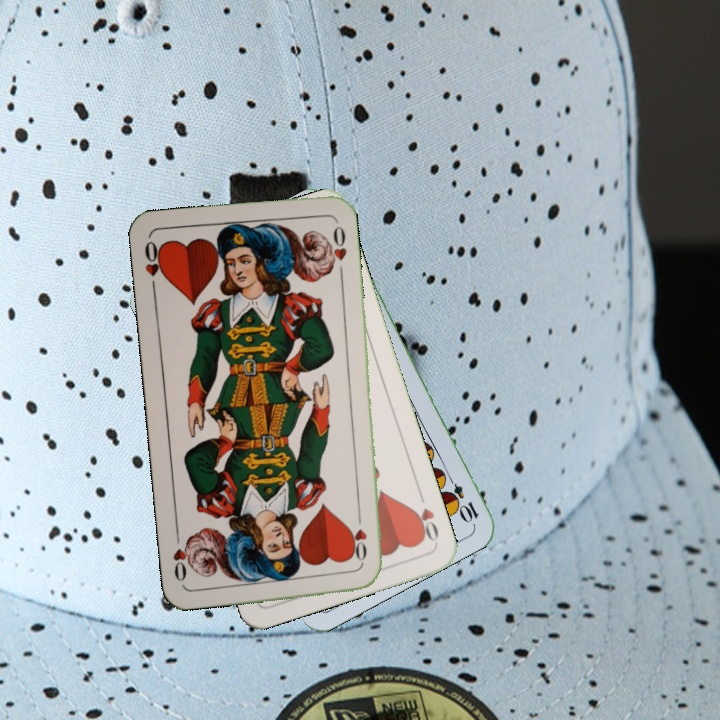E10: (441, 470, 481, 525)
HO: (409, 488, 441, 546), (140, 237, 167, 295), (351, 507, 370, 567)
